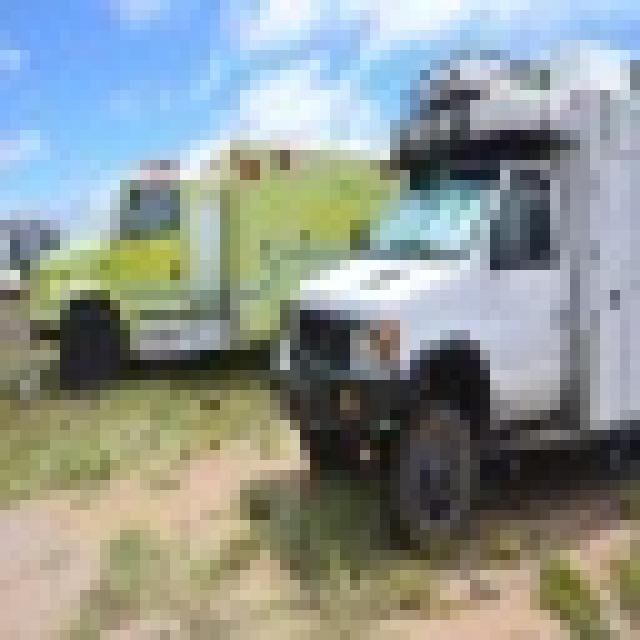Ambulance: (260, 40, 630, 550)
